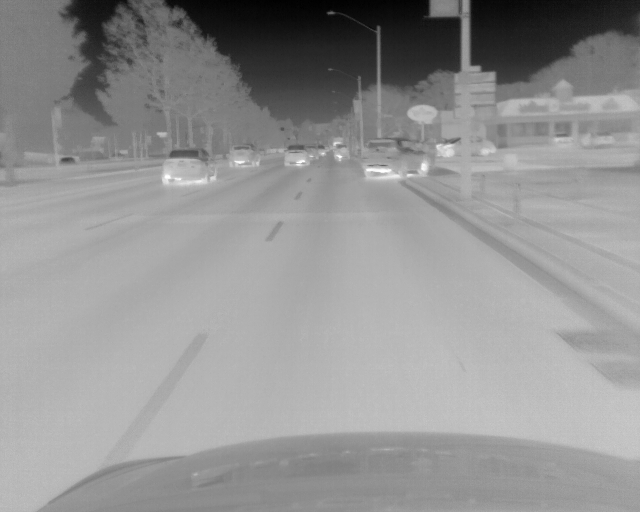car: (362, 138, 432, 179), (162, 148, 216, 185), (438, 135, 495, 158), (226, 144, 260, 169), (284, 144, 309, 168), (332, 143, 348, 163)
